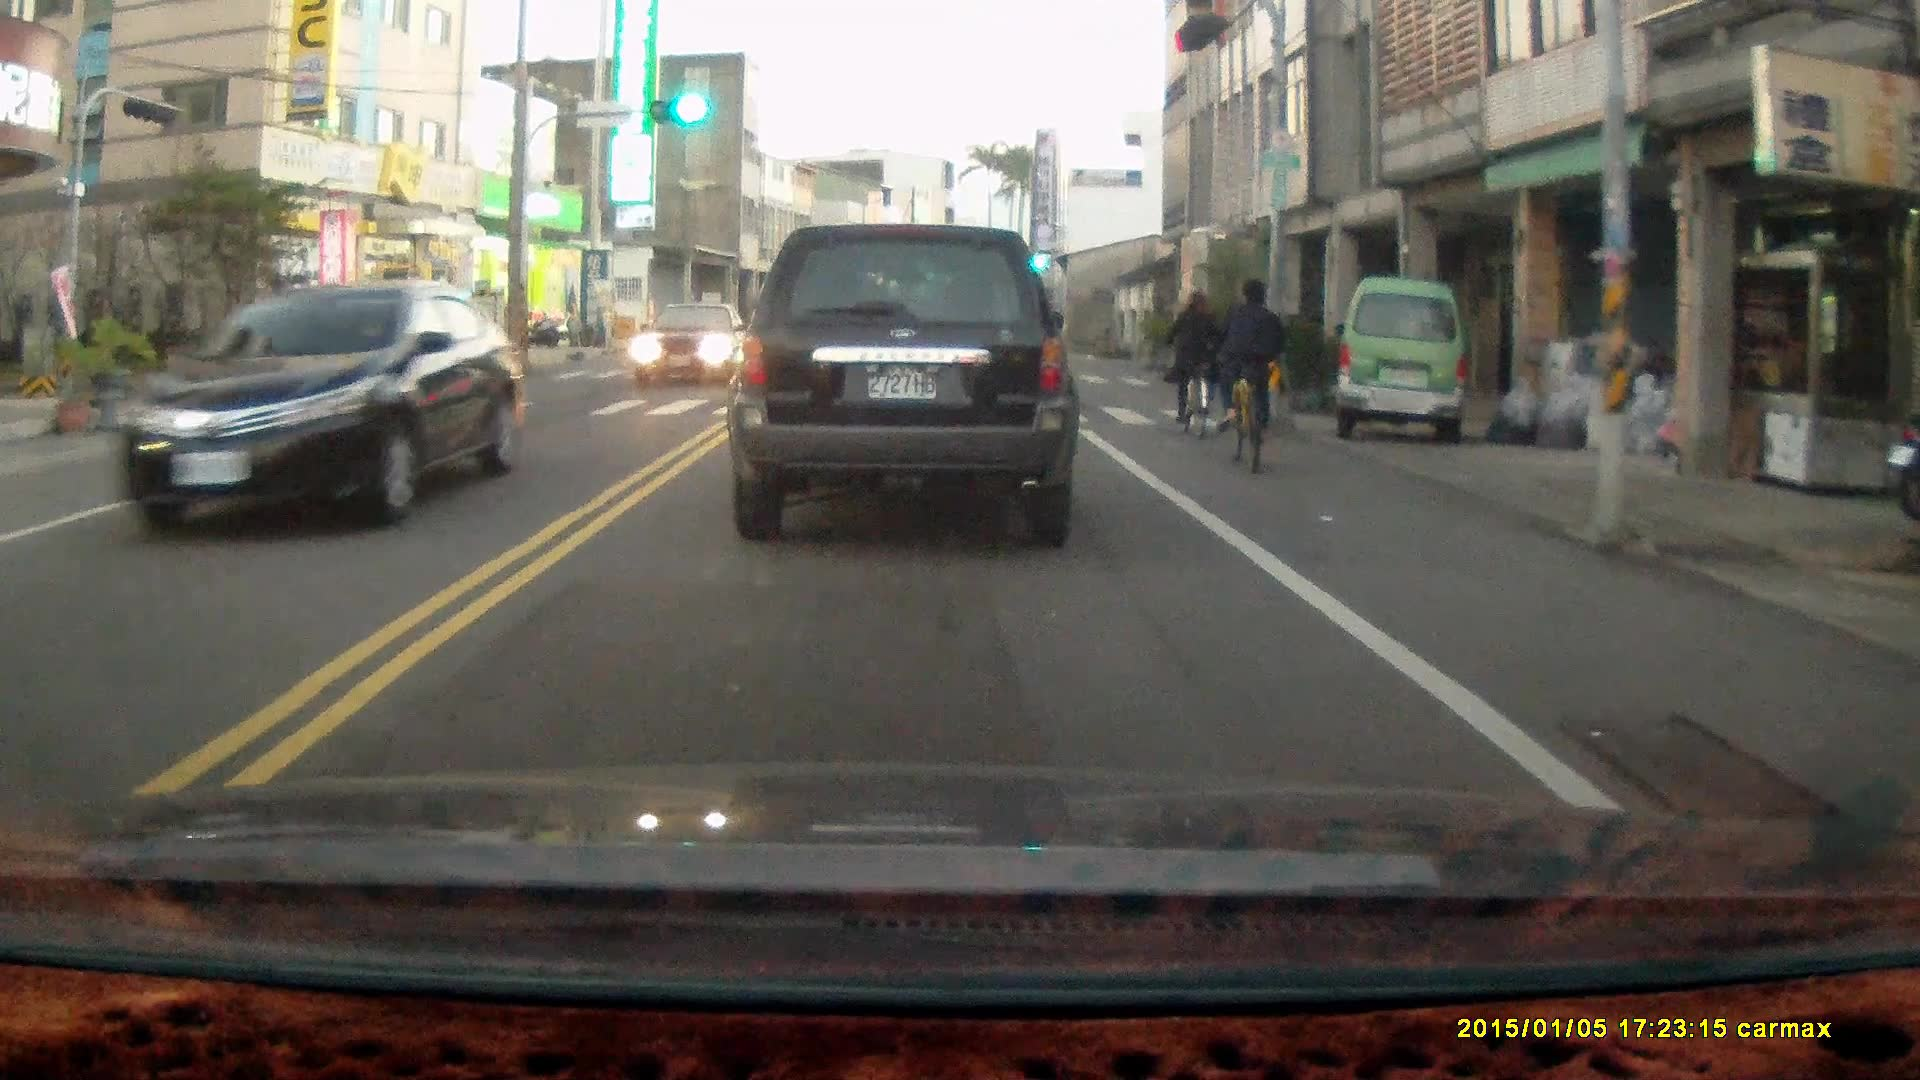rider: (1211, 274, 1287, 475), (1164, 286, 1223, 446)
vehicle: (733, 222, 1085, 544), (113, 281, 523, 537), (1329, 276, 1475, 450), (630, 303, 759, 393)
